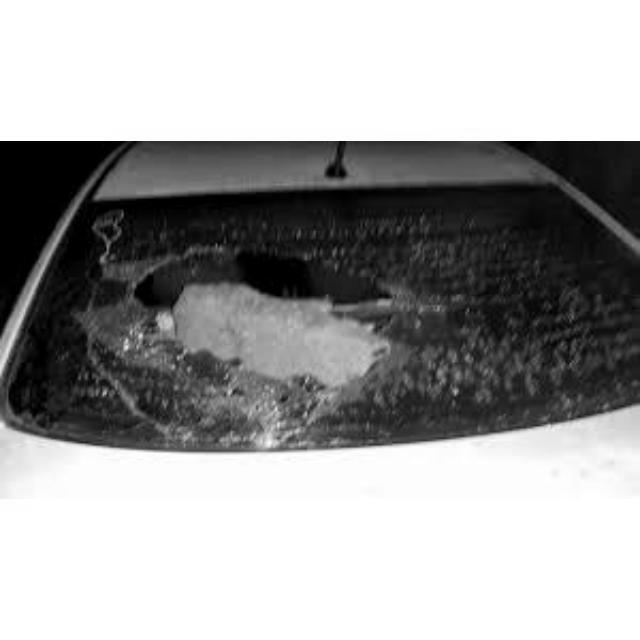Rear-windscreen-Damage: (9, 175, 631, 465)
